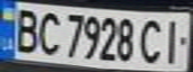2: (100, 12, 121, 62)
7: (60, 10, 84, 58)
8: (115, 15, 139, 63)
9: (78, 11, 103, 61)
B: (9, 4, 42, 54)
C: (136, 16, 169, 65), (33, 8, 63, 56)
I: (157, 16, 190, 65)
